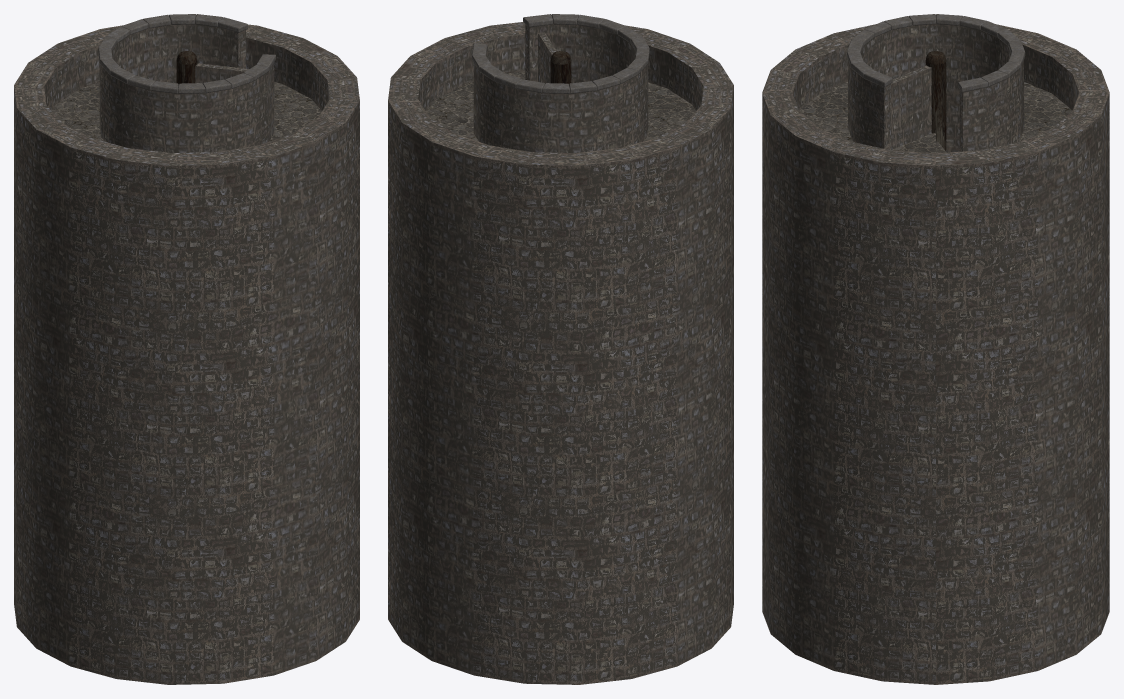
The model's file is CastleRoundTower_NoInt.fbx.
The picture shows the model from 3 angles, left to right: view 1: azimuth 30°, elevation 25°; view 2: azimuth 150°, elevation 25°; view 3: azimuth 270°, elevation 25°; orthographic projection.
Visible parts, largest first — view 1: Round Tower Large No Interior; view 2: Round Tower Large No Interior; view 3: Round Tower Large No Interior.
Part boxes in pixels (box(x1,y1,x2,y2)): Round Tower Large No Interior: box(14, 14, 359, 684); Round Tower Large No Interior: box(388, 14, 733, 684); Round Tower Large No Interior: box(762, 14, 1109, 684).
Bounding box in the file's own units: 599 × 1066 × 599.
